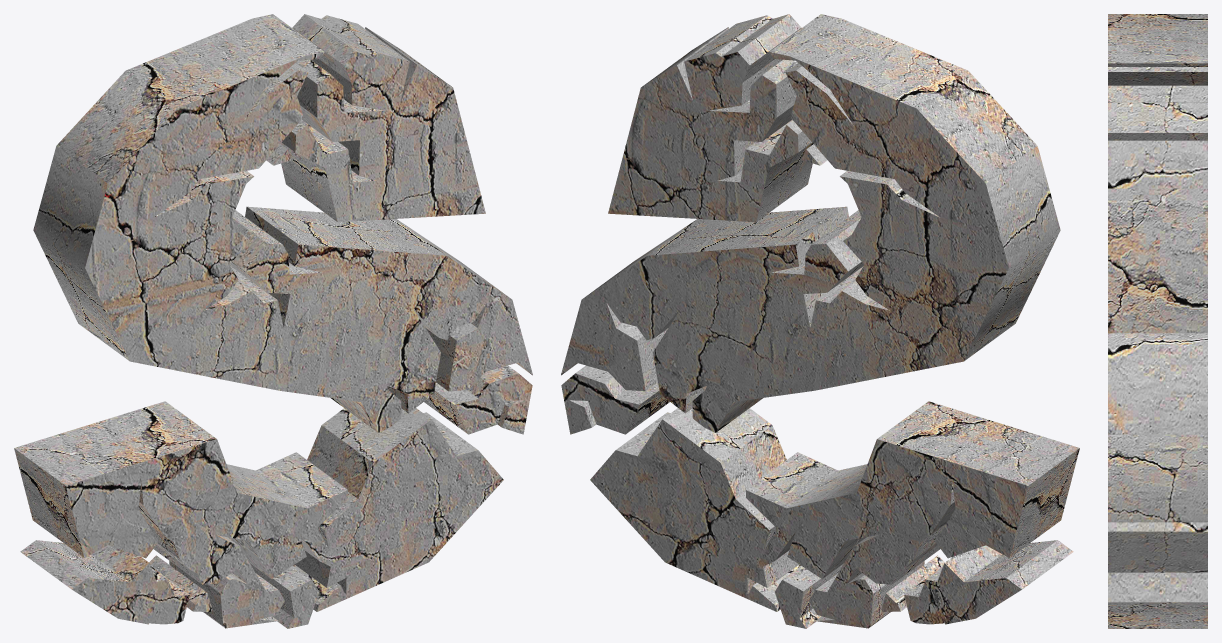
3 views of the same model, side by side, from view 1: azimuth 30°, elevation 25°; view 2: azimuth 150°, elevation 25°; view 3: azimuth 270°, elevation 25° (orthographic). The views are drawn at different scales.
Parts seen in each view (by area): view 1: S; view 2: S; view 3: S.
Part boxes in pixels (x1,y1,x2,y2): S: [14, 14, 532, 628]; S: [561, 14, 1079, 628]; S: [1108, 14, 1207, 628].
Size of the model in its own units: 78.2 by 91 by 15.
Materials: 1 (1 with a texture image).
